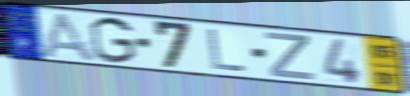4: (322, 37, 363, 85)
7: (151, 18, 195, 70)
A: (37, 11, 100, 64)
G: (88, 16, 139, 66)
L: (205, 27, 249, 74)
Z: (263, 31, 318, 82)
